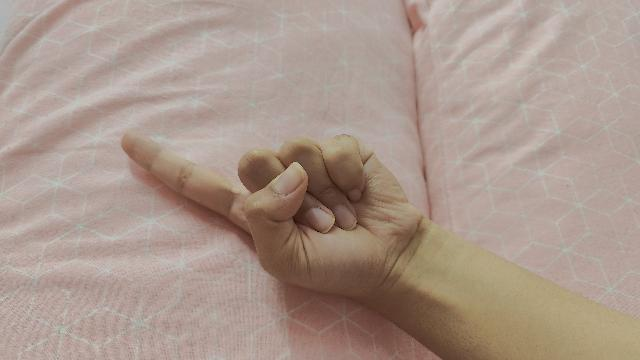soochi: (120, 136, 640, 360)
